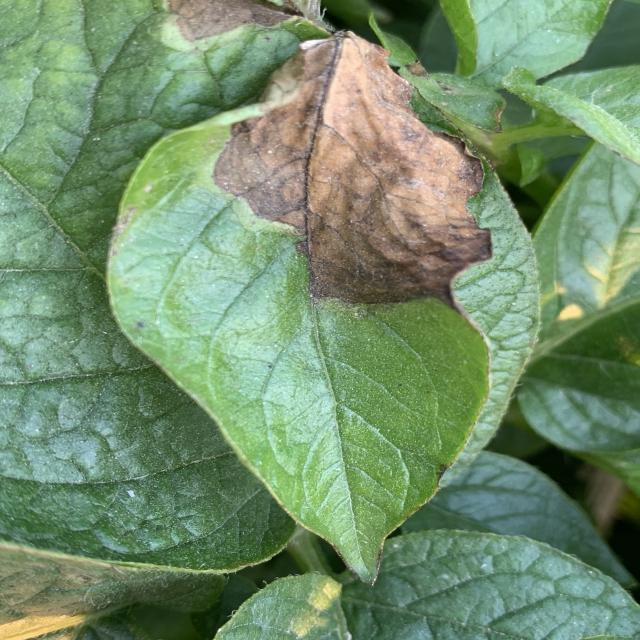lateblight: (213, 32, 492, 304), (168, 0, 290, 41)
